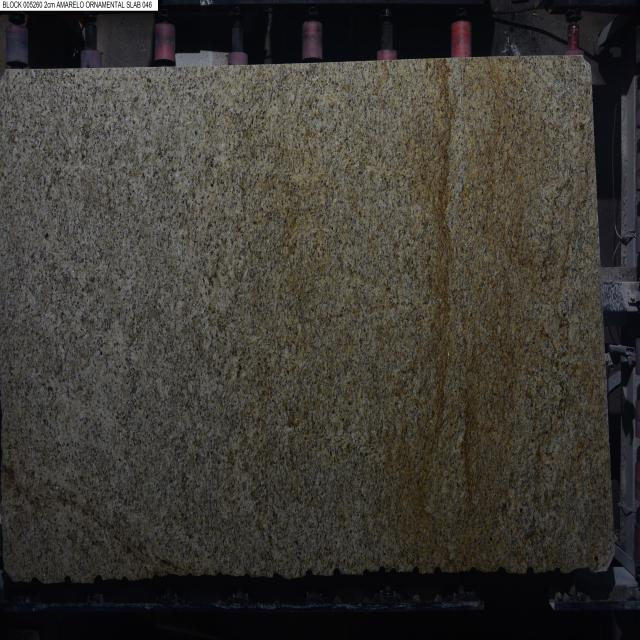chapa: (0, 58, 612, 583)
veio: (60, 572, 74, 586)
